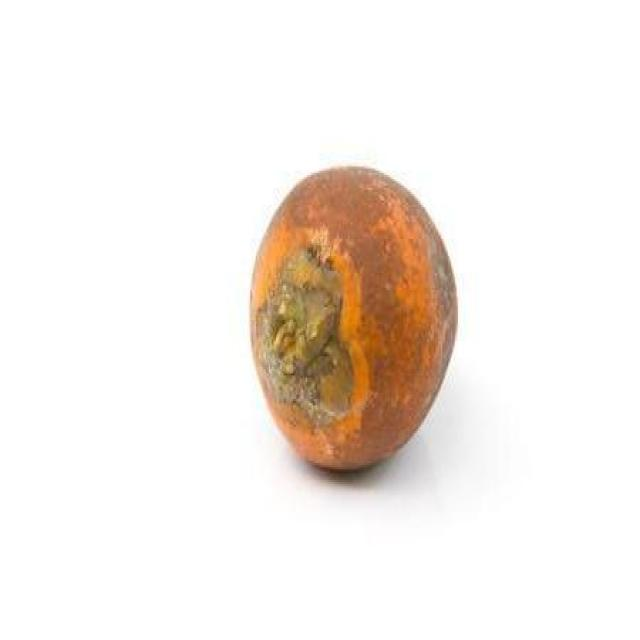good: (249, 166, 459, 474)
